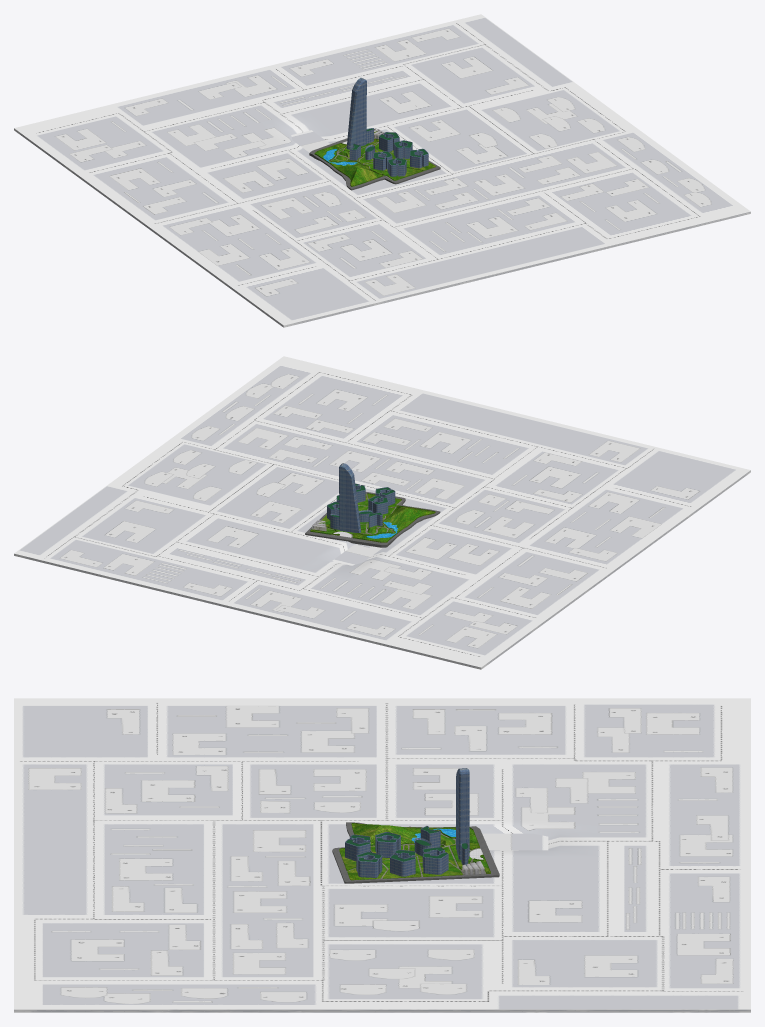
File: fiberhome.dae
3 renders of one model, top to bottom at view 1: azimuth 30°, elevation 25°; view 2: azimuth 150°, elevation 25°; view 3: azimuth 270°, elevation 25°, orthographic. The views are drawn at different scales.
Parts seen in each view (by area): view 1: basic, building-f1_1, d19_1, _0_1.1; view 2: basic, building-f1_1, d19_1, _0_1.1; view 3: basic, _0_1.1, building-f1_1, d19_1, building-f2_1.
Part boxes in pixels (box(x1,y1,x2,y2)): basic: box(14, 14, 750, 327); building-f1_1: box(346, 77, 366, 149); d19_1: box(314, 143, 383, 186); _0_1.1: box(309, 128, 440, 190); basic: box(14, 356, 750, 669); building-f1_1: box(339, 463, 361, 532); d19_1: box(352, 505, 435, 542); _0_1.1: box(305, 492, 440, 547); basic: box(14, 698, 750, 1012); _0_1.1: box(332, 822, 499, 883); building-f1_1: box(456, 768, 469, 859); d19_1: box(351, 823, 479, 850); building-f2_1: box(423, 852, 448, 874).
Bounding box in the file's own units: 200 × 28.97 × 200.
10 materials, 10 textured.
